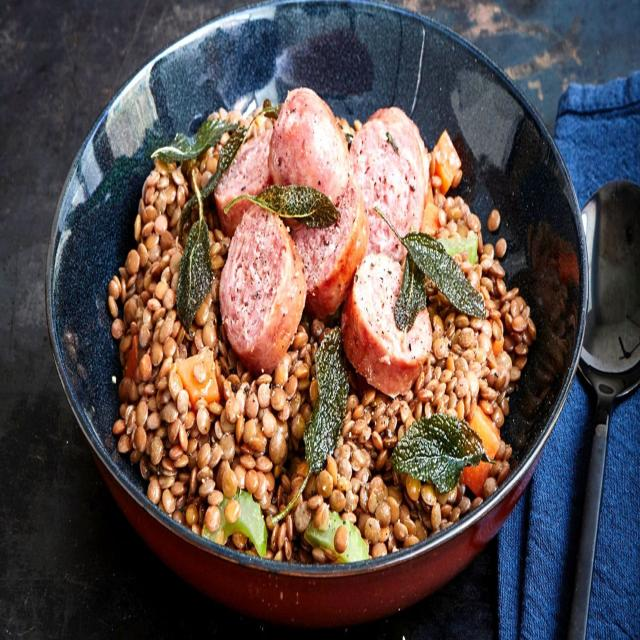lentejas: (125, 179, 226, 506)
